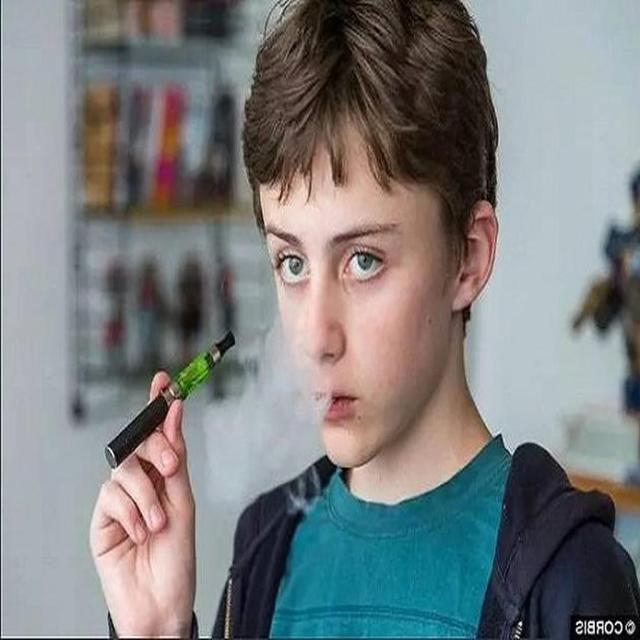smoking: (100, 2, 503, 480)
